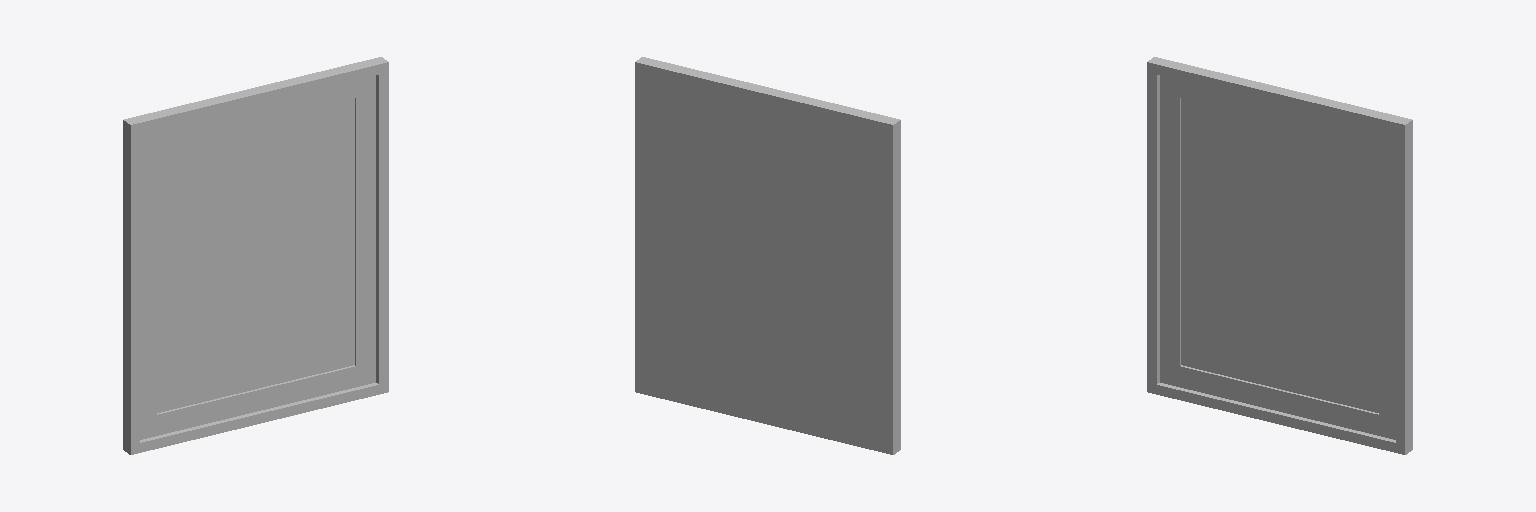
File: frame.obj
The picture shows the model from 3 angles: view 1: azimuth 30°, elevation 25°; view 2: azimuth 150°, elevation 25°; view 3: azimuth 330°, elevation 25°; orthographic projection.
Parts seen in each view (by area): view 1: Layer0_001; view 2: Layer0_001; view 3: Layer0_001.
Part boxes in pixels (bbox=[...]): Layer0_001: bbox=[123, 57, 388, 454]; Layer0_001: bbox=[635, 57, 900, 454]; Layer0_001: bbox=[1147, 57, 1412, 454].
Size of the model in its own units: 993 by 1213 by 50.